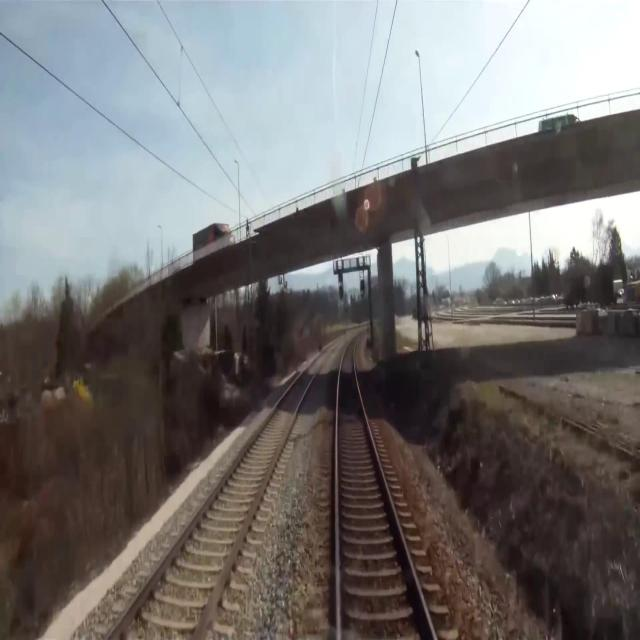rail-track: (110, 346, 332, 639), (339, 338, 433, 639)
